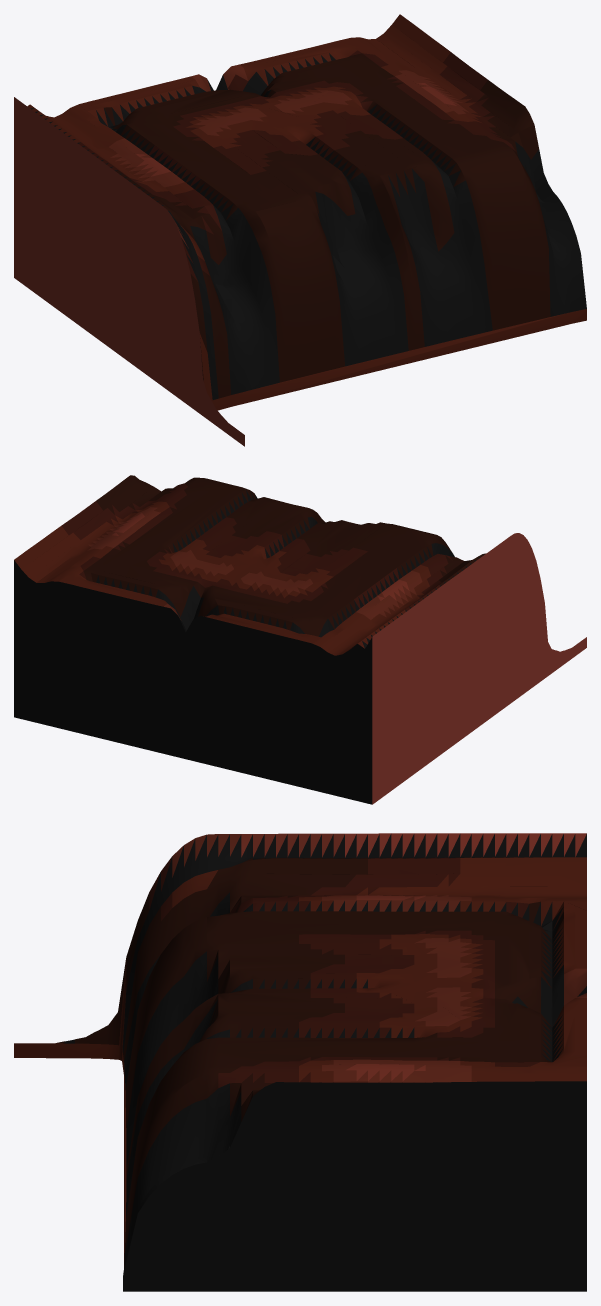
Rendered from savara_boss_272.glb.
3 views of the same model, one above another, from view 1: azimuth 30°, elevation 25°; view 2: azimuth 150°, elevation 25°; view 3: azimuth 270°, elevation 25° (orthographic). The views are drawn at different scales.
Parts seen in each view (by area): view 1: savara_boss_272_hull; view 2: savara_boss_272_hull; view 3: savara_boss_272_hull.
Part boxes in pixels (left/top/right/bottom): savara_boss_272_hull: left=14, top=14, right=586, bottom=446; savara_boss_272_hull: left=14, top=475, right=586, bottom=804; savara_boss_272_hull: left=14, top=833, right=586, bottom=1291.
Size of the model in its own units: 24 by 10.76 by 24.88.
